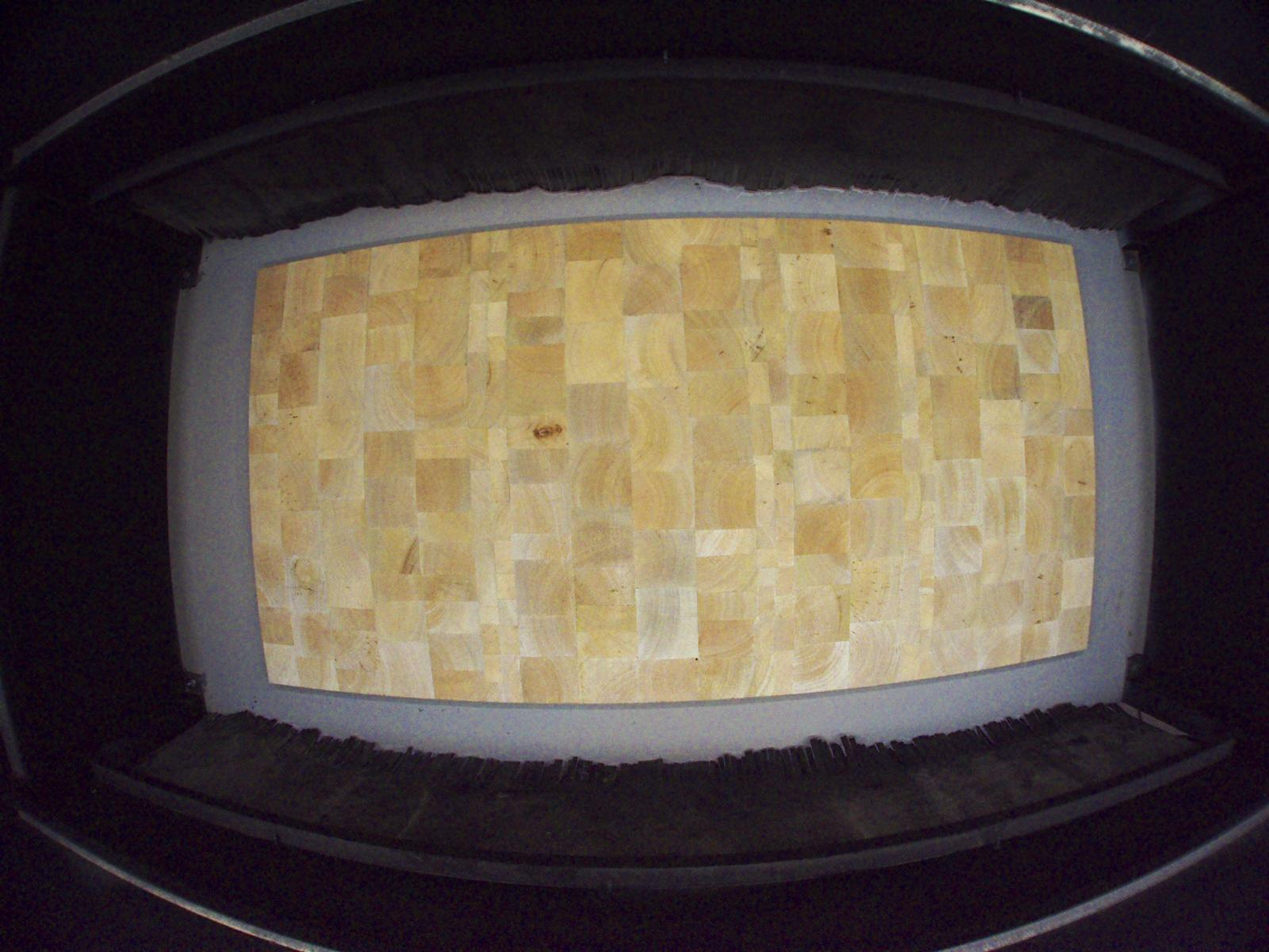nudillo: (532, 422, 564, 443)
